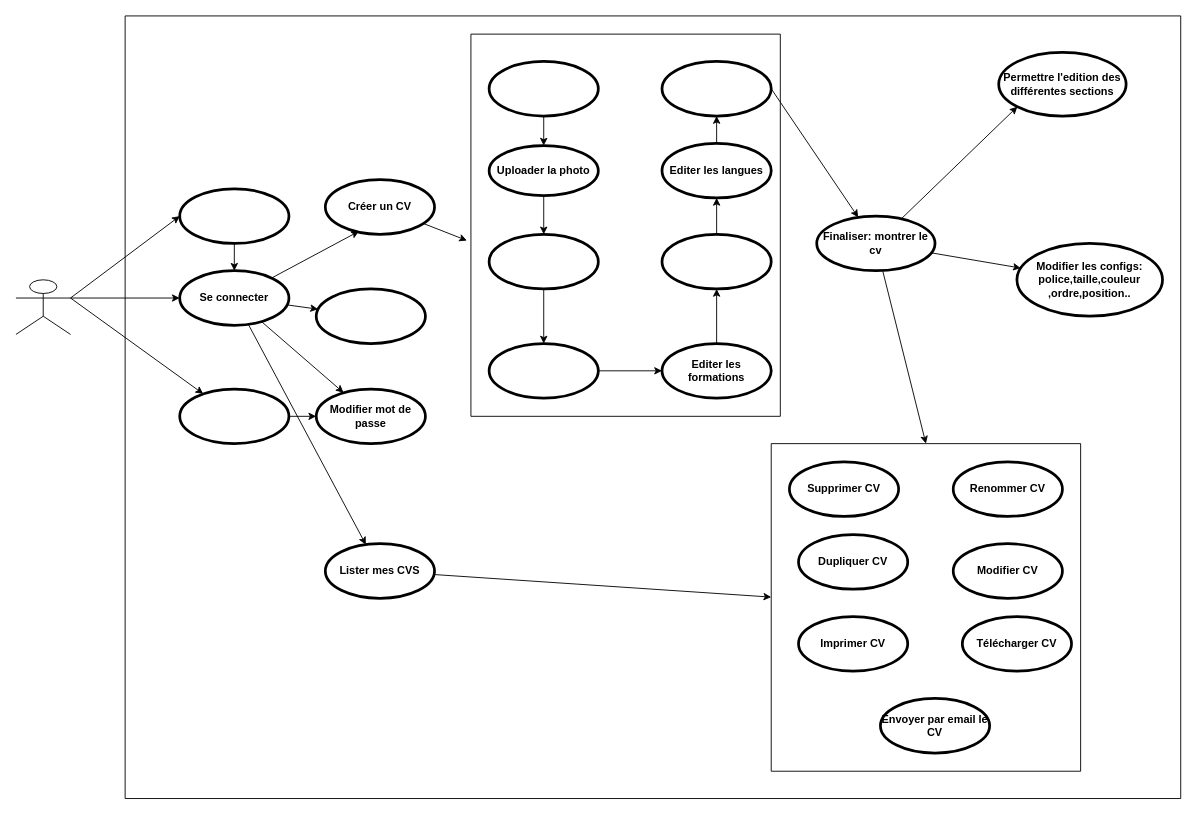
This 1197x814 diagram has some shape labels left out. Each missing label, with the centre of its shape:
Choisir le modèle: point (543, 88)
créer un compte: point (234, 215)
Editer les compétences: point (716, 261)
Editer les expériences professionnelles: point (543, 370)
Editer les infos de profile: point (543, 261)
Editer les liens: point (716, 88)
Modifier paramètres: point (370, 315)
Mot de passe oublié: point (234, 416)
User: point (43, 306)
